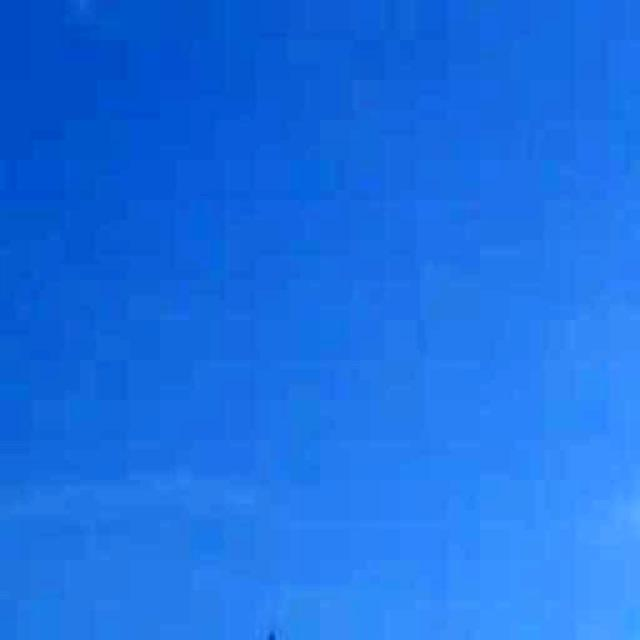drone: (251, 612, 292, 640)
